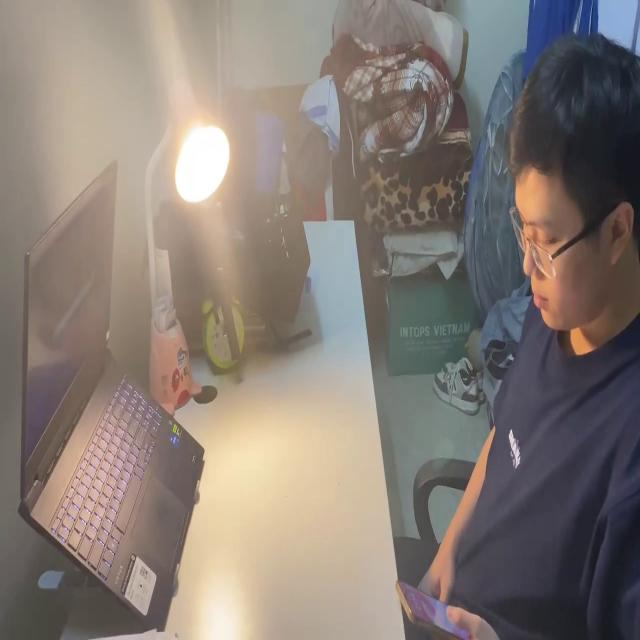laptop: (18, 157, 207, 629)
phone: (392, 578, 472, 640)
student: (401, 33, 640, 640)
